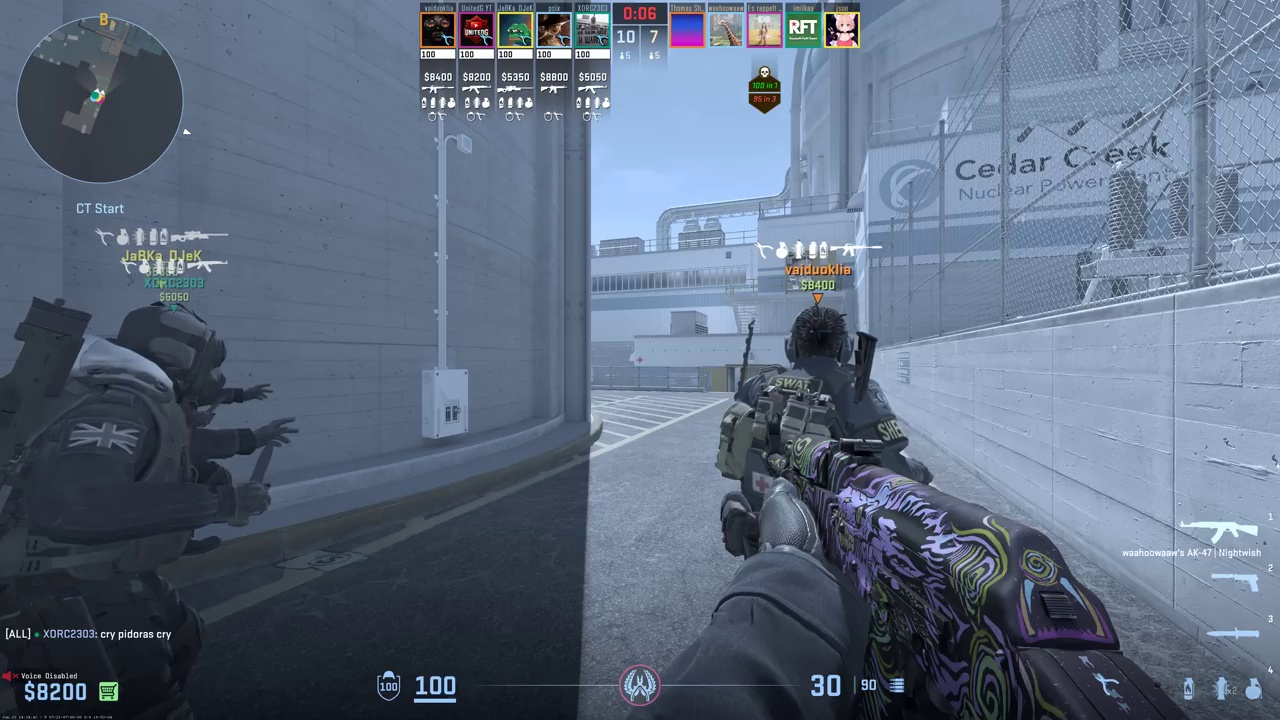CT: (8, 317, 248, 715), (734, 304, 904, 560)
